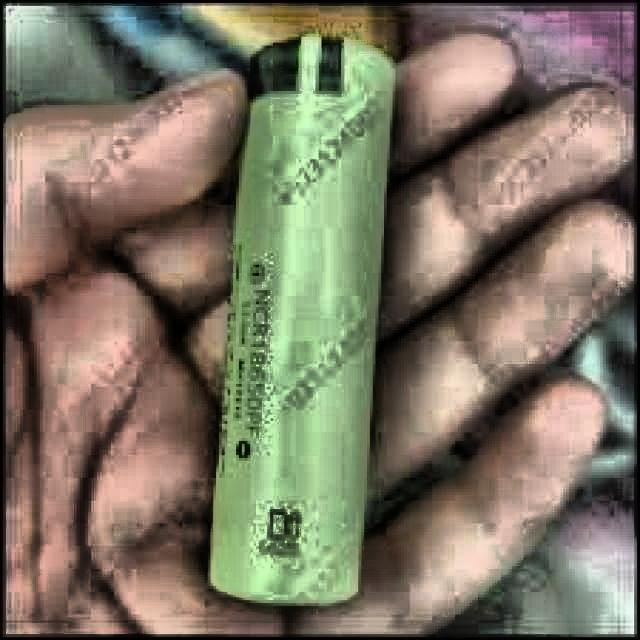Non-Valuable Waste - Batteries: (210, 37, 393, 603)
